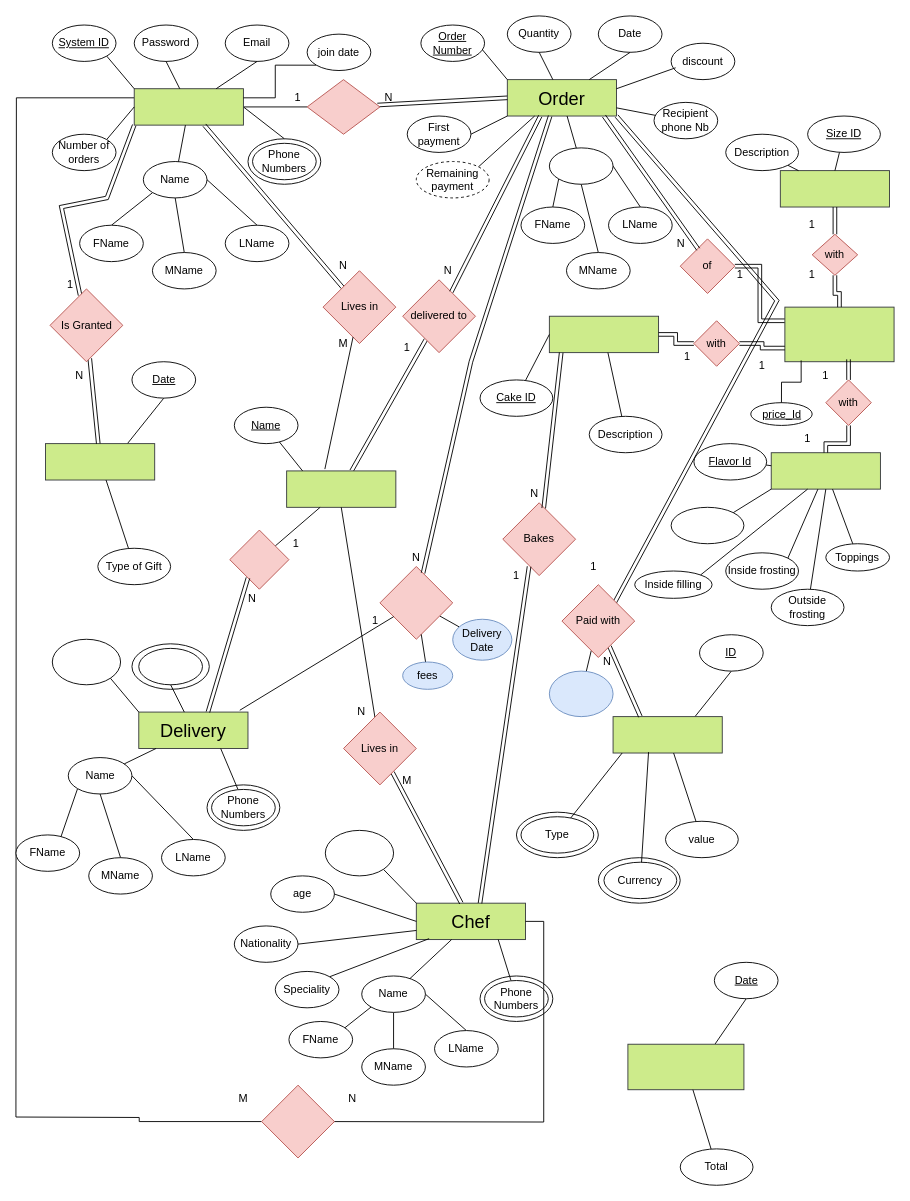
Image size: 910x1201. Some labels were removed from this diagram. Here are the shapes that lost their labels. From the top down, the centre of each, then its label:
point 188,106: Customer
point 343,106: Place an
point 580,165: Recipient name
point 834,188: Cake size
point 603,334: Cake
point 839,334: Cake_Price
point 100,461: Gifts
point 825,470: Cake Flavor
point 341,488: City
point 707,525: Flavor Type
point 259,559: located in
point 416,602: Delivered By
point 86,661: Transporter ID
point 170,666: Address
point 580,693: payment date
point 667,734: Payment
point 359,852: SSN
point 685,1066: Daily Payment
point 297,1121: Rates
